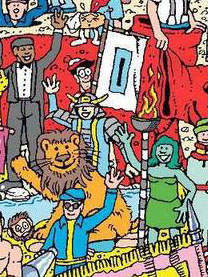waldo: (65, 55, 93, 91)
